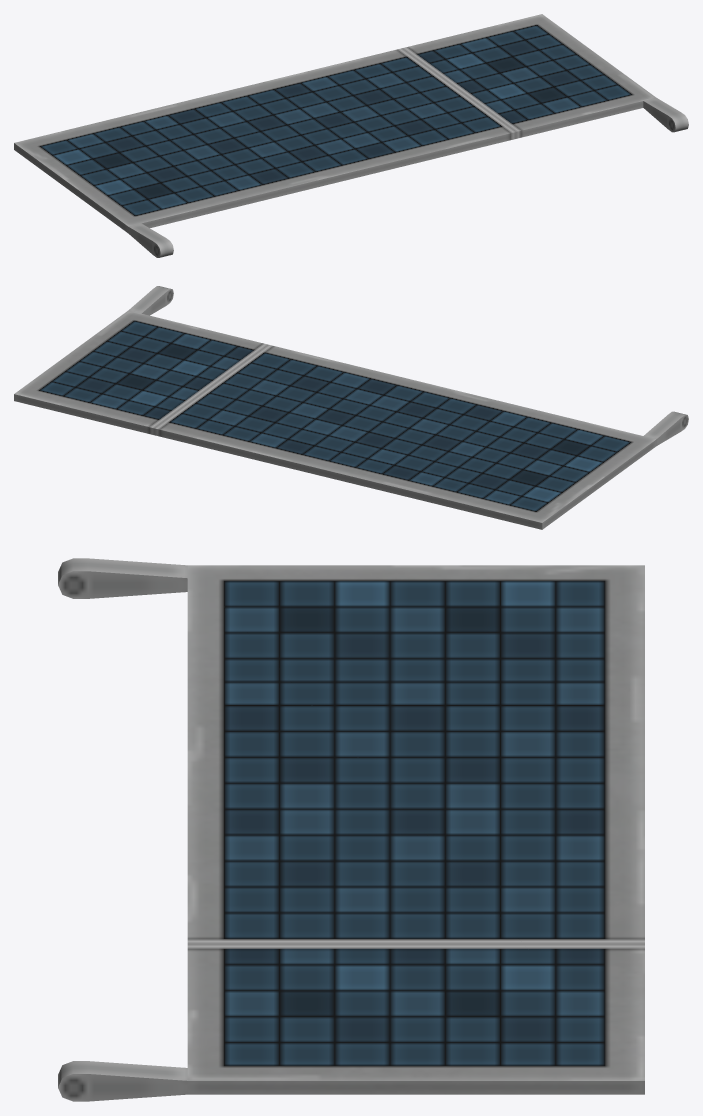
Rendered from octans_solar_srf_2_panel_1.obj.
3 renders of one model, top to bottom at view 1: azimuth 30°, elevation 25°; view 2: azimuth 150°, elevation 25°; view 3: azimuth 270°, elevation 25°, orthographic. The views are drawn at different scales.
Parts seen in each view (by area): view 1: mesh; view 2: mesh; view 3: mesh.
Part boxes in pixels (bbox=[...]): mesh: bbox=[14, 14, 688, 257]; mesh: bbox=[14, 286, 688, 529]; mesh: bbox=[58, 558, 644, 1101].
Size of the model in its own units: 1 by 0.025 by 0.4813.
1 material, 1 textured.
